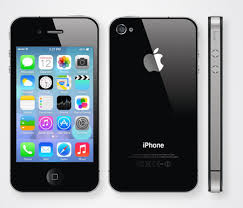iphone: (107, 12, 198, 194), (9, 11, 100, 193)
iphone4: (9, 12, 100, 194), (108, 11, 199, 193)
